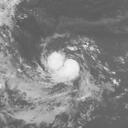cyclone: (46, 51, 81, 88)
